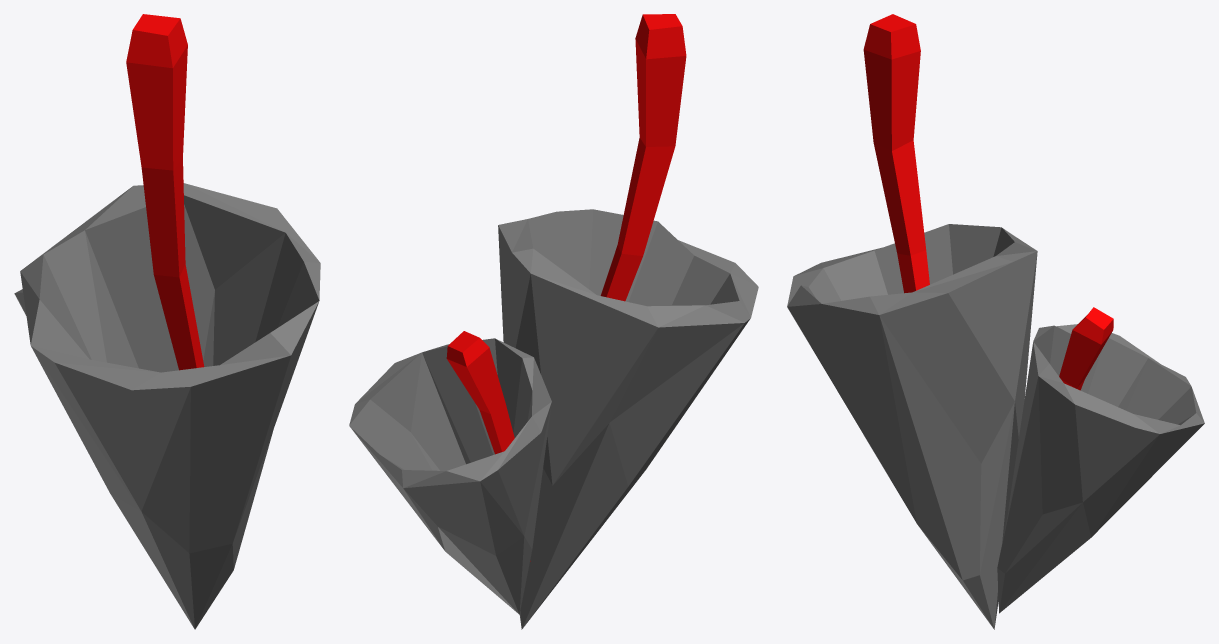
The model's file is FungiCone01.fbx.
3 renders of one model, left to right at view 1: azimuth 30°, elevation 25°; view 2: azimuth 150°, elevation 25°; view 3: azimuth 270°, elevation 25°, orthographic. The views are drawn at different scales.
Visible parts, largest first — view 1: FungiCone01; view 2: FungiCone01; view 3: FungiCone01.
Part boxes in pixels (bbox=[...]): FungiCone01: bbox=[14, 14, 320, 629]; FungiCone01: bbox=[349, 14, 758, 629]; FungiCone01: bbox=[787, 14, 1204, 629].
Bounding box in the file's own units: 31.49 × 64.37 × 43.02.
